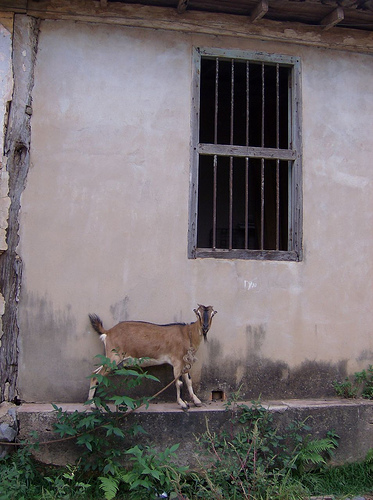goat: (86, 303, 218, 413)
